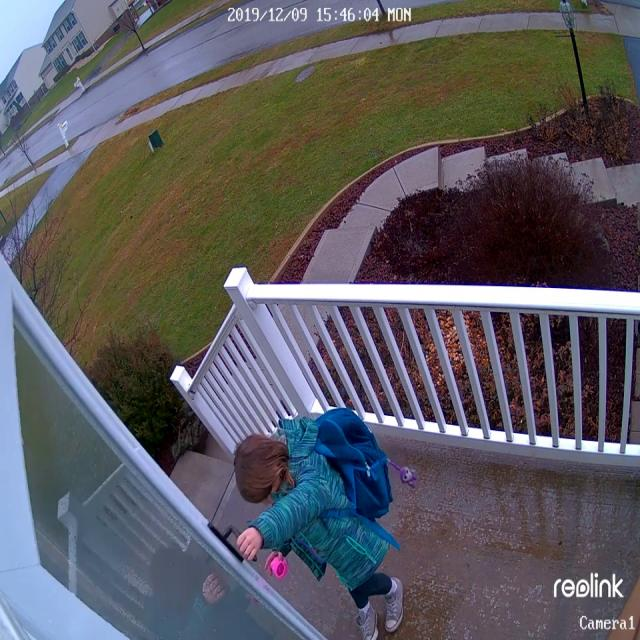child: (234, 415, 404, 640)
